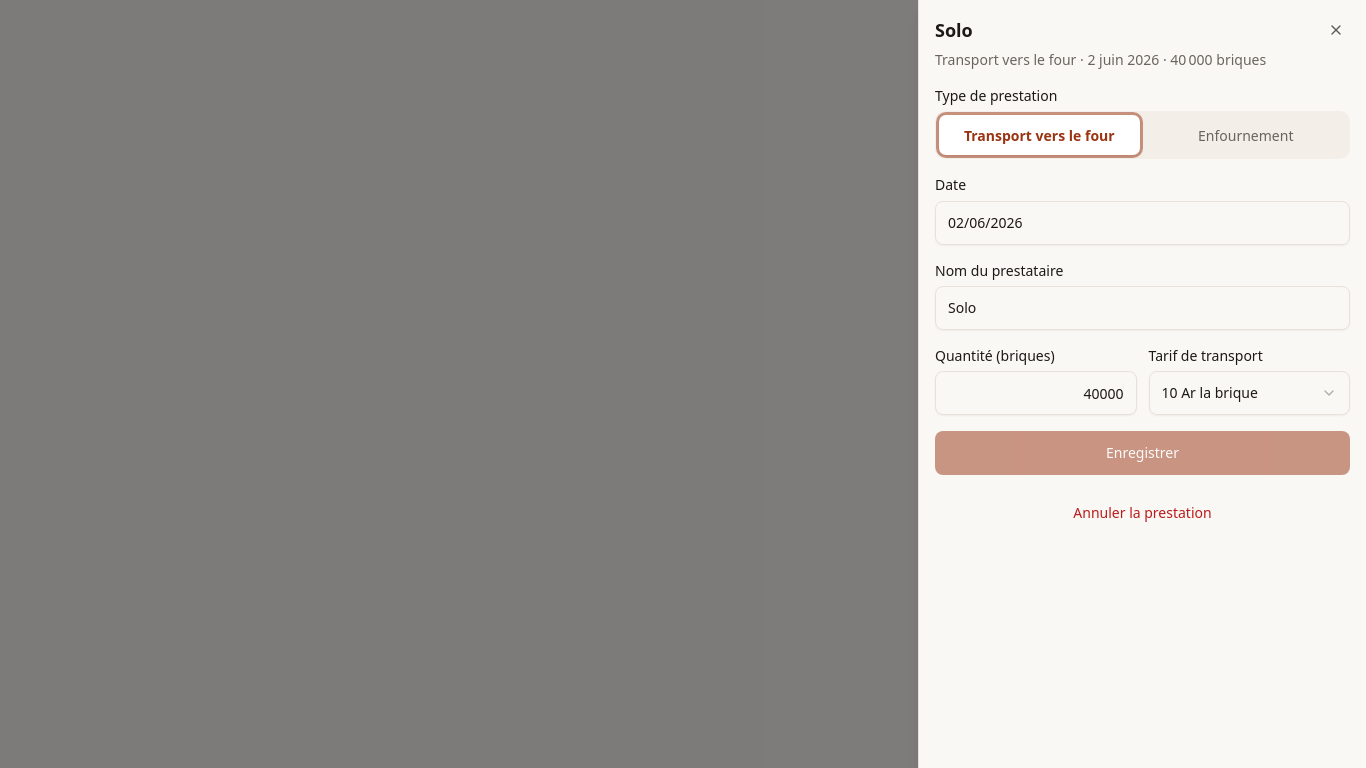
Test: ContractorWorkPage › corrects the work and keeps it on its batch
The width and height of the screenshot is (1366, 768).
Check: the heading "Solo" is shown, box [935, 18, 973, 42]
Replace the text in the field labelled "Quantité (briques)" with "38000" at (1036, 393), box [935, 371, 1136, 415]
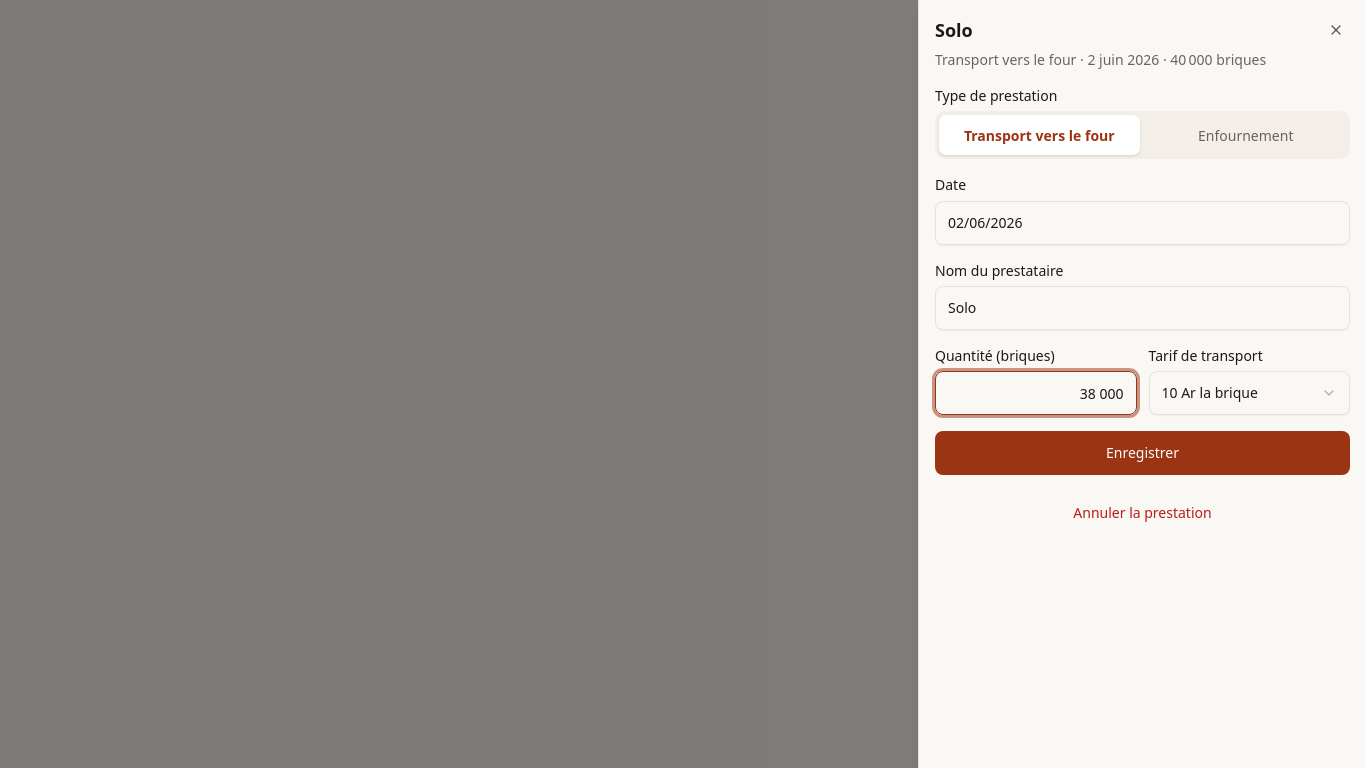
Click the button "Enregistrer" at (1142, 453), box [935, 431, 1350, 475]
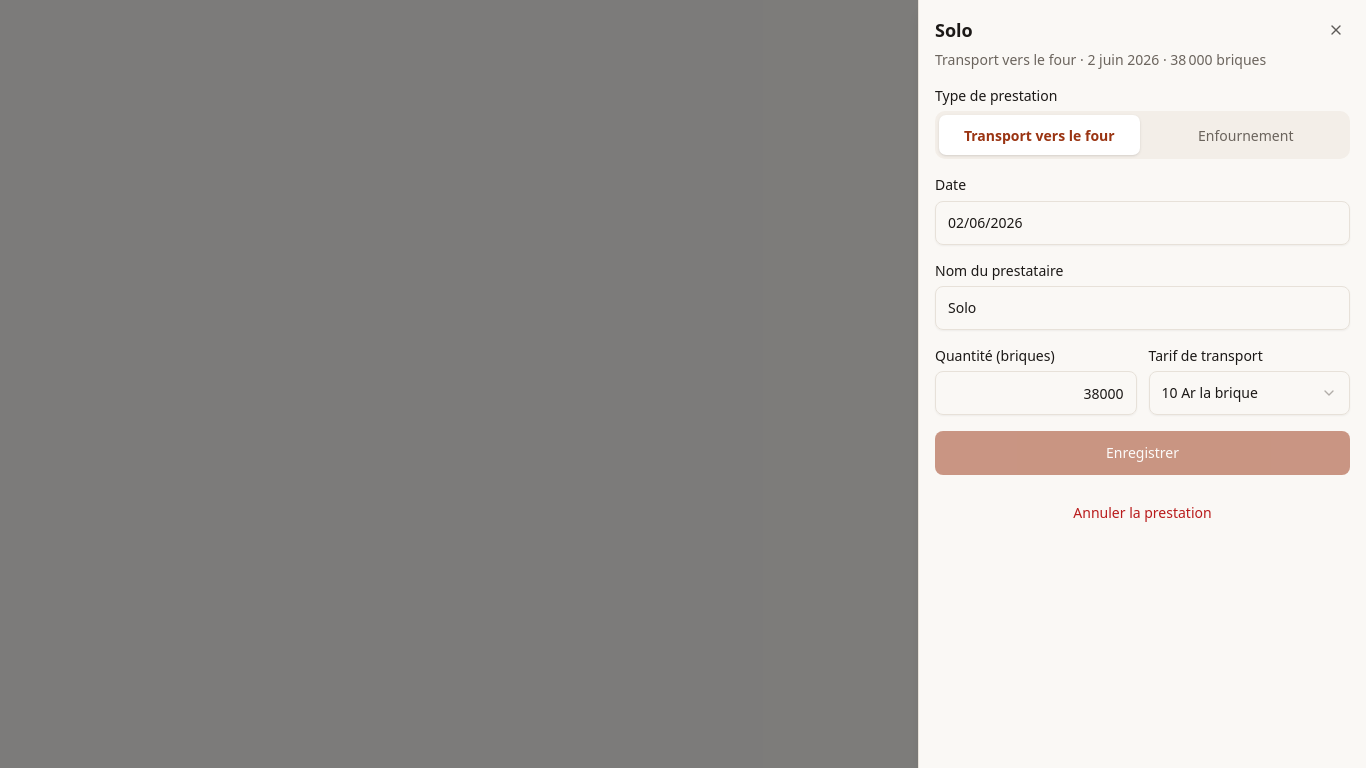
Check: the text "Transport vers le four · 2 juin 2026 · 38 000 briques" is shown, box [935, 50, 1310, 70]
